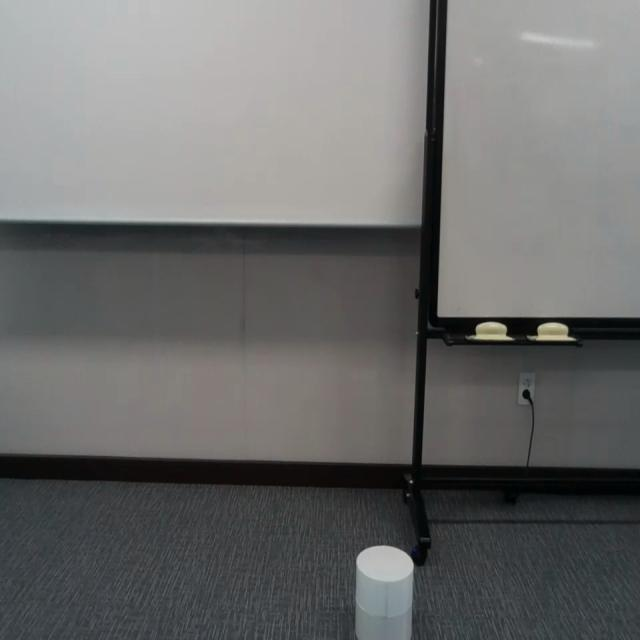cylinder: (354, 543, 414, 638)
